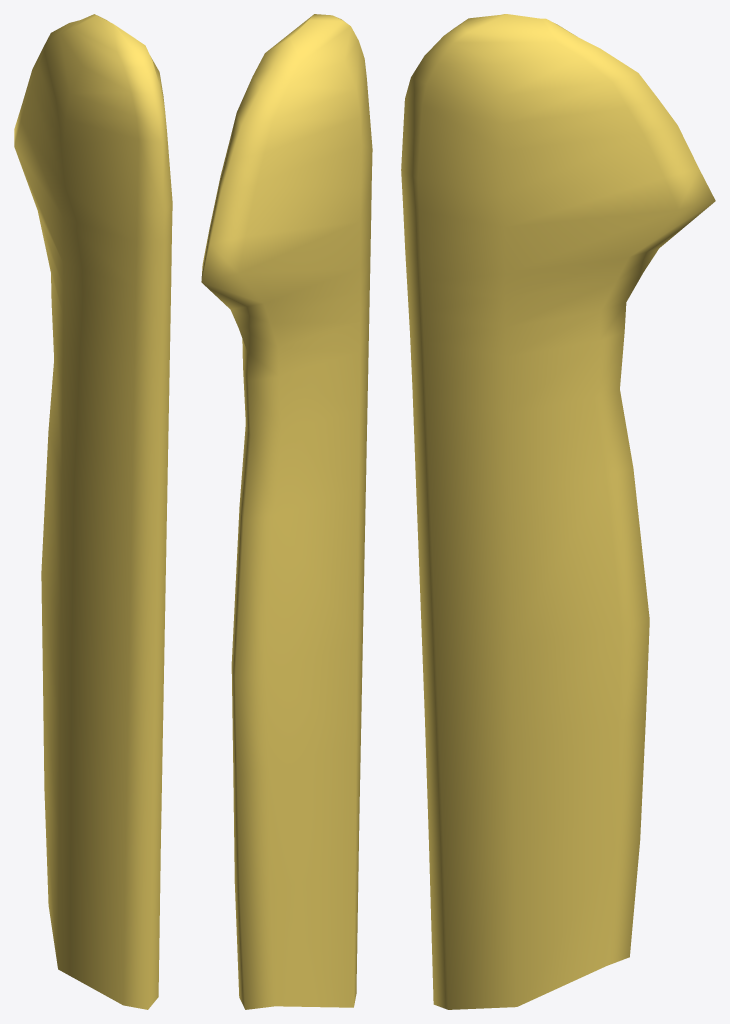
Rendered from MeshCube_011_0_GeomSubset_1.obj.
3 renders of one model, left to right at view 1: azimuth 30°, elevation 25°; view 2: azimuth 150°, elevation 25°; view 3: azimuth 270°, elevation 25°, orthographic. The views are drawn at different scales.
Parts seen in each view (by area): view 1: MeshCube_011_0_GeomSubset_1; view 2: MeshCube_011_0_GeomSubset_1; view 3: MeshCube_011_0_GeomSubset_1.
Part boxes in pixels (x1,y1,x2,y2): MeshCube_011_0_GeomSubset_1: (14,14,172,1009); MeshCube_011_0_GeomSubset_1: (201,14,372,1009); MeshCube_011_0_GeomSubset_1: (401,14,715,1009).
Size of the model in its own units: 0.0128 by 0.1177 by 0.0339.
